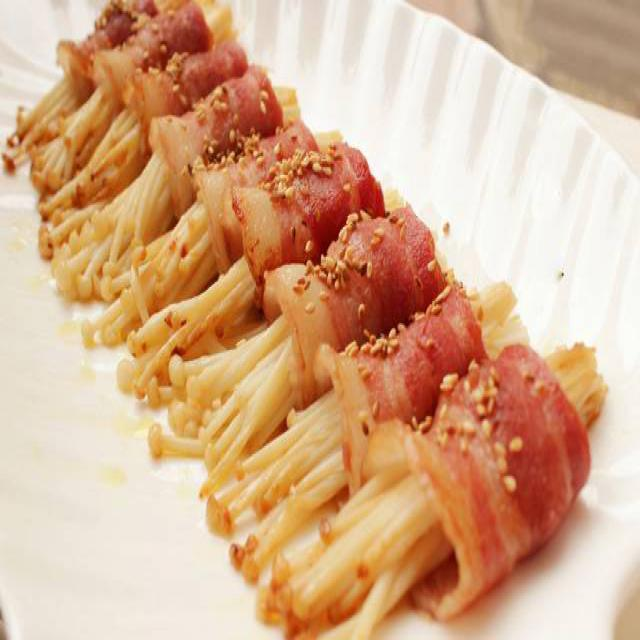Flammulina velutiper: (14, 18, 385, 345), (270, 341, 605, 627), (200, 284, 519, 567), (160, 218, 430, 474)
